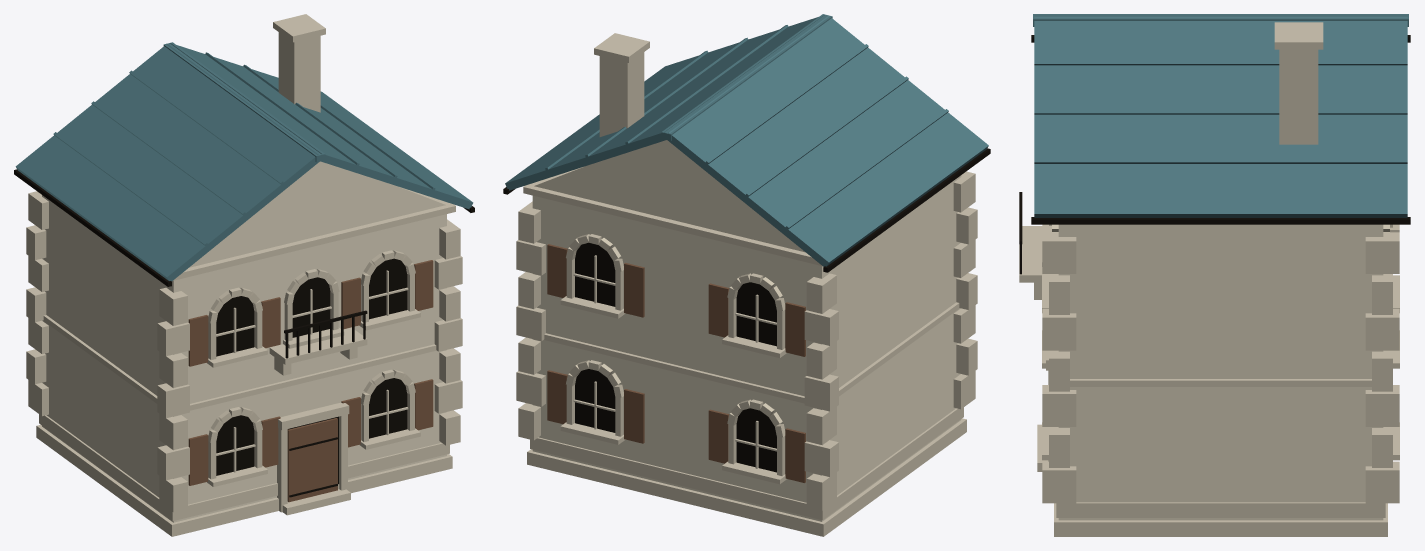
The model's file is aeolia-house-lod.glb.
3 views of the same model, side by side, from view 1: azimuth 30°, elevation 25°; view 2: azimuth 150°, elevation 25°; view 3: azimuth 270°, elevation 25° (orthographic). The views are drawn at different scales.
Parts seen in each view (by area): view 1: Warm lime plaster, Carved limestone, Slate roof, Aged chestnut shutters; view 2: Warm lime plaster, Slate roof, Carved limestone, Aged chestnut shutters; view 3: Warm lime plaster, Slate roof, Carved limestone, Aged chestnut shutters.
Boxes of the visible parts, bbox=[...] form: Warm lime plaster: bbox=[42, 161, 446, 522]; Carved limestone: bbox=[26, 14, 462, 536]; Slate roof: bbox=[15, 42, 473, 281]; Aged chestnut shutters: bbox=[14, 169, 474, 502]; Warm lime plaster: bbox=[532, 140, 961, 521]; Slate roof: bbox=[505, 14, 988, 266]; Carved limestone: bbox=[516, 33, 977, 536]; Aged chestnut shutters: bbox=[503, 148, 990, 482]; Warm lime plaster: bbox=[1058, 224, 1383, 520]; Slate roof: bbox=[1033, 14, 1408, 217]; Carved limestone: bbox=[1019, 22, 1399, 536]; Aged chestnut shutters: bbox=[1019, 35, 1410, 274].
Bounding box in the file's own units: 13.46 × 16.08 × 12.07.
